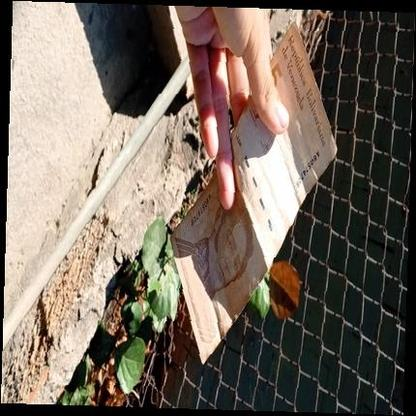five-front-vef: (169, 20, 338, 366)
